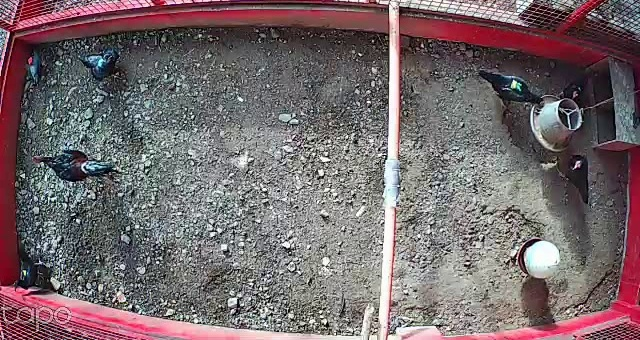Chicken: (475, 68, 548, 115), (552, 152, 596, 207), (10, 238, 49, 297), (74, 46, 128, 84), (20, 45, 50, 91), (557, 70, 595, 104)
Rooster: (29, 145, 124, 184)
Saddle_Color_Red: (27, 57, 32, 67)
Saddle_Color_Yellow: (21, 268, 30, 278)
Saddle_Color_YellowGreen: (510, 78, 523, 90)
